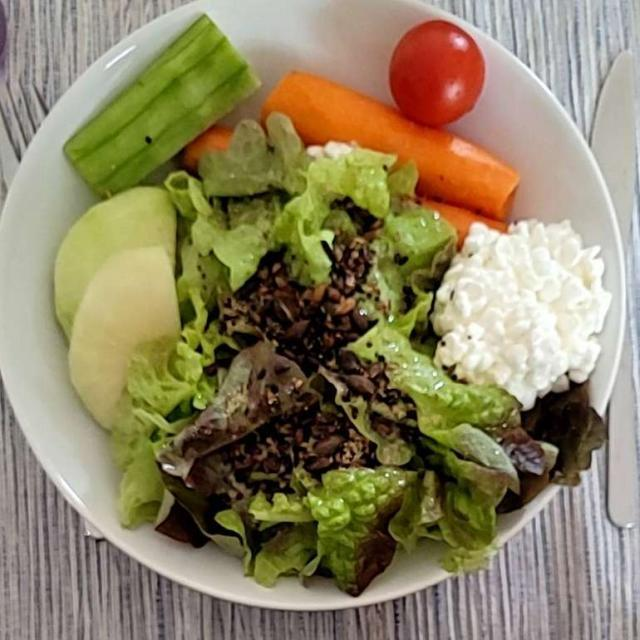carrot: (189, 74, 509, 251)
cheese: (424, 215, 606, 416)
cucumber: (57, 16, 262, 197)
kolhrabi: (53, 186, 193, 439)
mixed-seeds: (158, 223, 411, 538)
salad: (120, 138, 581, 586)
tomato: (390, 18, 493, 133)
